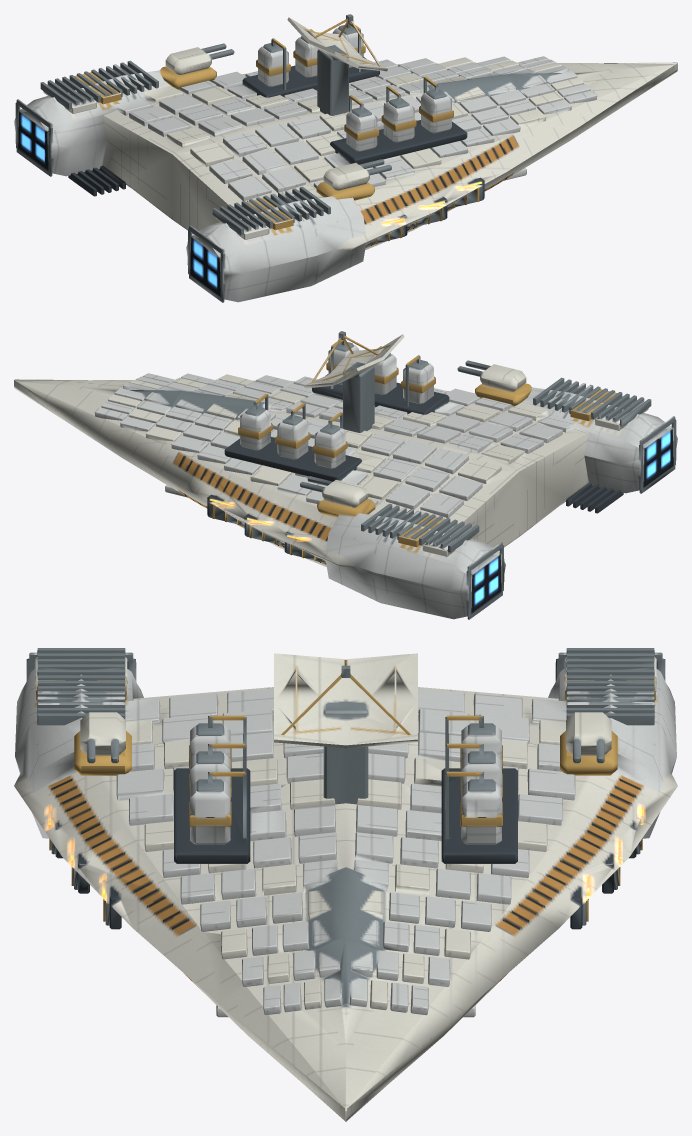
The model's file is wedge-renewed.glb.
The picture shows the model from 3 angles, top to bottom: view 1: azimuth 30°, elevation 25°; view 2: azimuth 150°, elevation 25°; view 3: azimuth 270°, elevation 25°; orthographic projection. The views are drawn at different scales.
Parts seen in each view (by area): view 1: wedge-renewed; view 2: wedge-renewed; view 3: wedge-renewed.
Boxes of the visible parts, x1,y1,x2,y2 form: wedge-renewed: (14, 14, 677, 302); wedge-renewed: (14, 331, 677, 619); wedge-renewed: (14, 648, 677, 1121).
Size of the model in its own units: 1 by 0.287 by 0.6699.
Materials: 1 (1 with a texture image).
